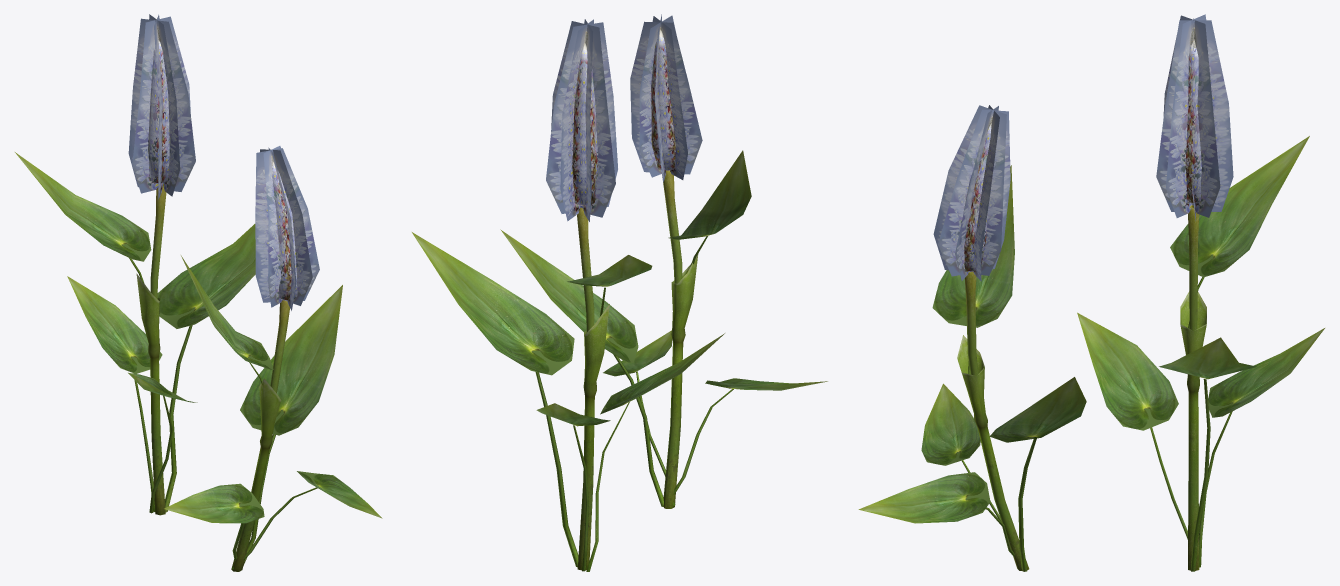
Rendered from Pontederia.FBX.
3 views of the same model, side by side, from view 1: azimuth 30°, elevation 25°; view 2: azimuth 150°, elevation 25°; view 3: azimuth 270°, elevation 25° (orthographic). The views are drawn at different scales.
Parts seen in each view (by area): view 1: Pontederia, Pontederia2; view 2: Pontederia, Pontederia2; view 3: Pontederia, Pontederia2.
Boxes of the visible parts, x1,y1,x2,y2 form: Pontederia: (15,14,255,515); Pontederia2: (164,146,382,571); Pontederia: (412,19,724,571); Pontederia2: (500,14,827,508); Pontederia: (1077,14,1324,571); Pontederia2: (858,105,1086,571).
Size of the model in its own units: 45.41 by 84.48 by 65.42.
